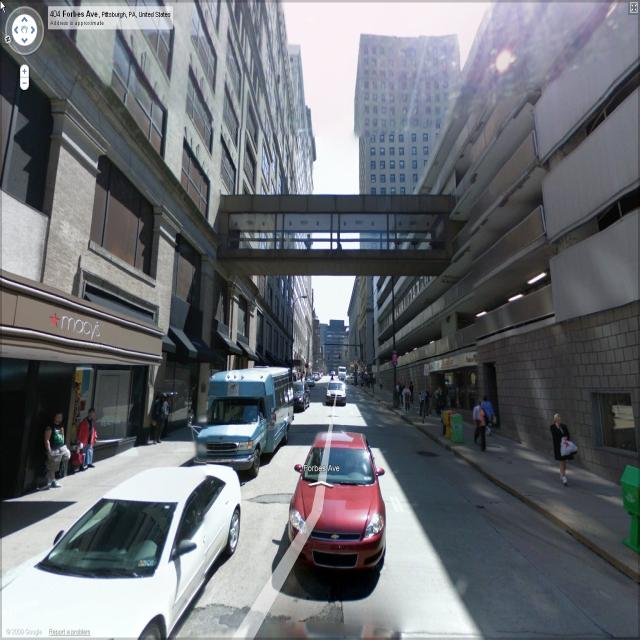b_1: (381, 18, 640, 404), (0, 8, 214, 410), (238, 41, 300, 383), (352, 18, 466, 200), (318, 320, 352, 374)
